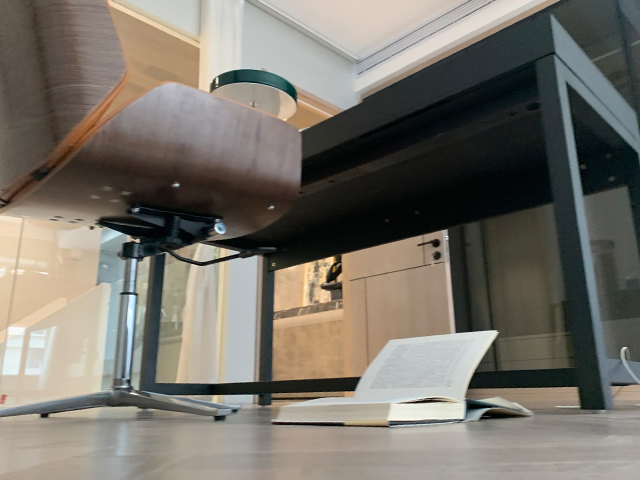book: (268, 328, 536, 428)
stool: (1, 1, 305, 423)
table: (181, 10, 640, 412)
wire: (618, 345, 640, 388)
